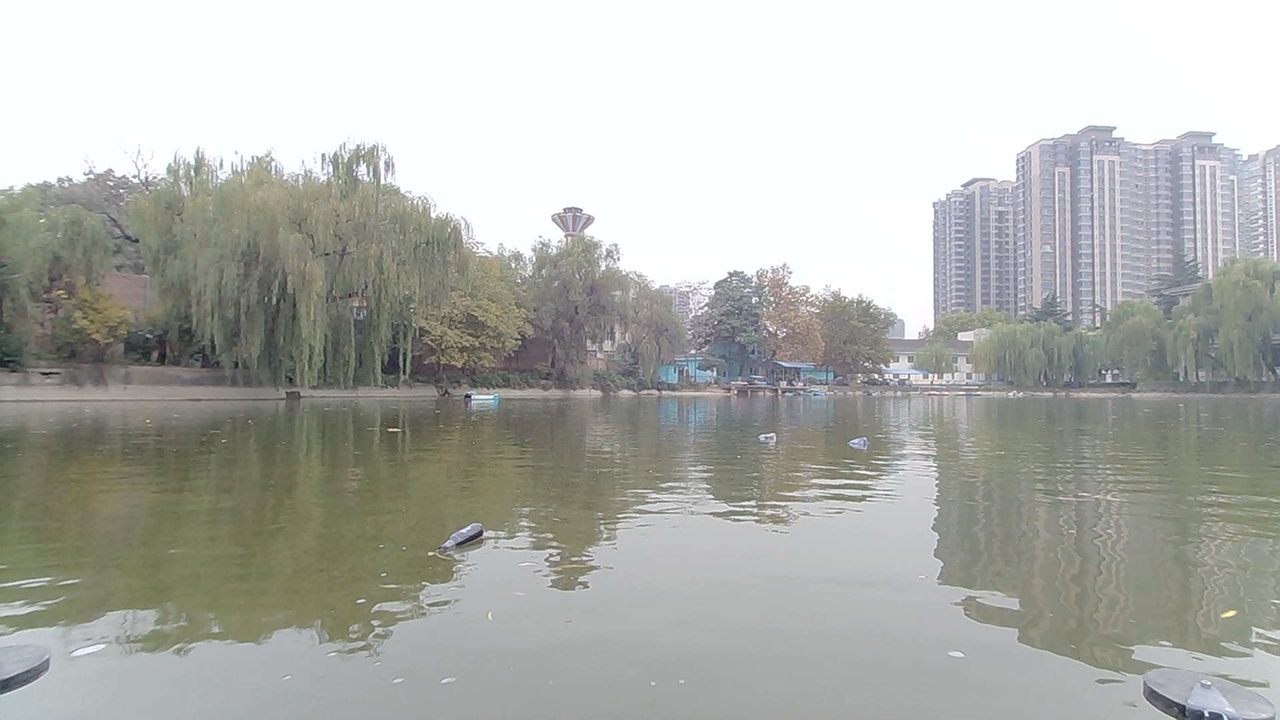bottle: (442, 505, 521, 555), (748, 419, 787, 445), (842, 435, 875, 452)
